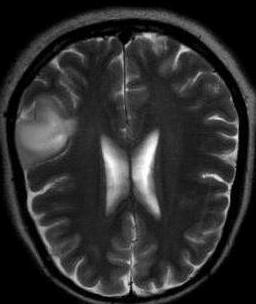Normal_Brain: (1, 1, 256, 304)
